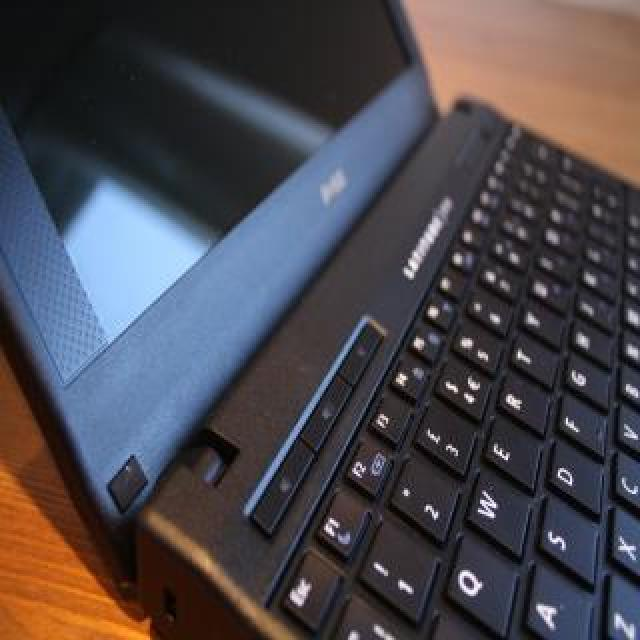laptop_computer: (9, 11, 640, 640)
